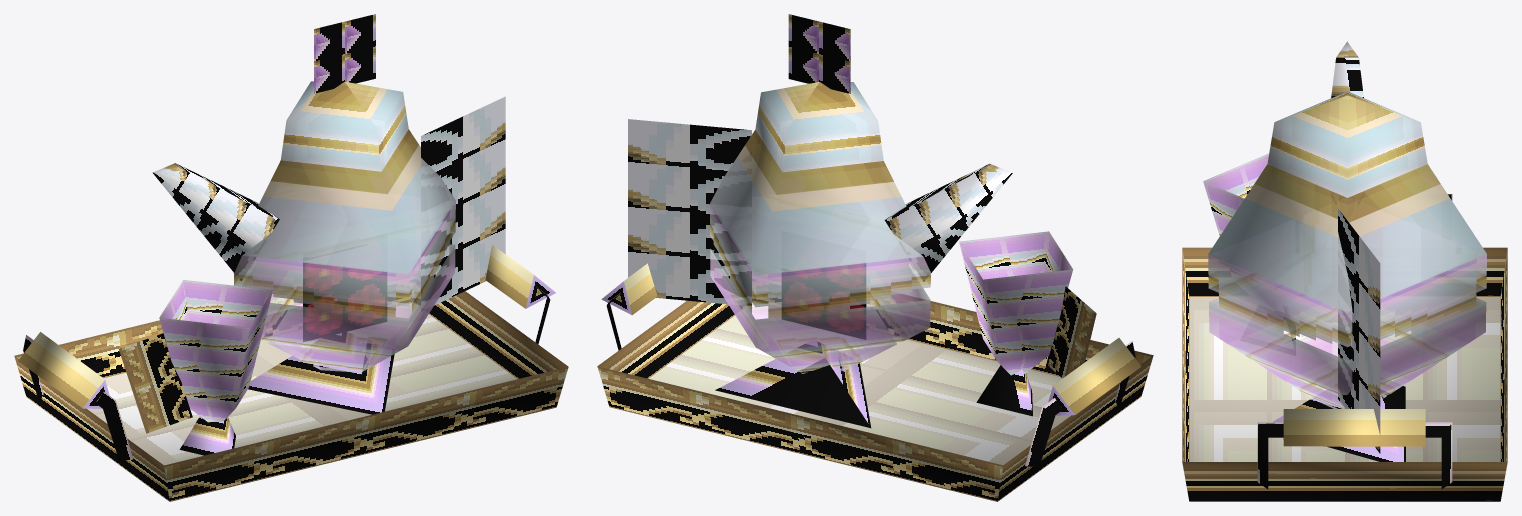
Rendered from 0056ucc_tea_e.gltf.
3 renders of one model, left to right at view 1: azimuth 30°, elevation 25°; view 2: azimuth 150°, elevation 25°; view 3: azimuth 270°, elevation 25°, orthographic. The views are drawn at different scales.
Visible parts, largest first — view 1: 0056ucc_tea_e; view 2: 0056ucc_tea_e; view 3: 0056ucc_tea_e.
Part boxes in pixels (<box>): 0056ucc_tea_e: <box>14,14,568,501</box>; 0056ucc_tea_e: <box>597,14,1153,501</box>; 0056ucc_tea_e: <box>1182,41,1507,501</box>.
Bounding box in the file's own units: 0.7163 × 0.532 × 0.3926.
Materials: 9 (9 with a texture image).
